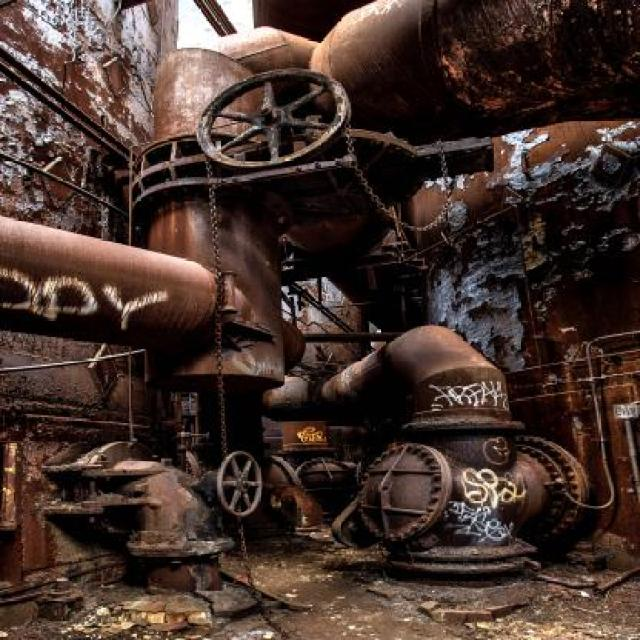corrosion: (7, 1, 640, 595)
